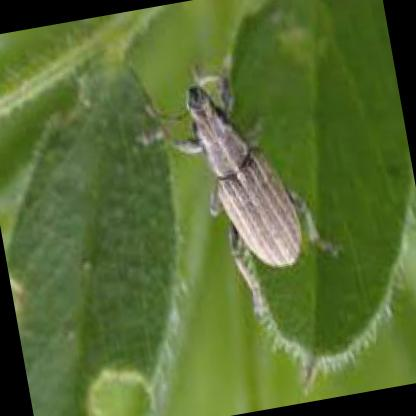ash weevil: (165, 75, 329, 267)
